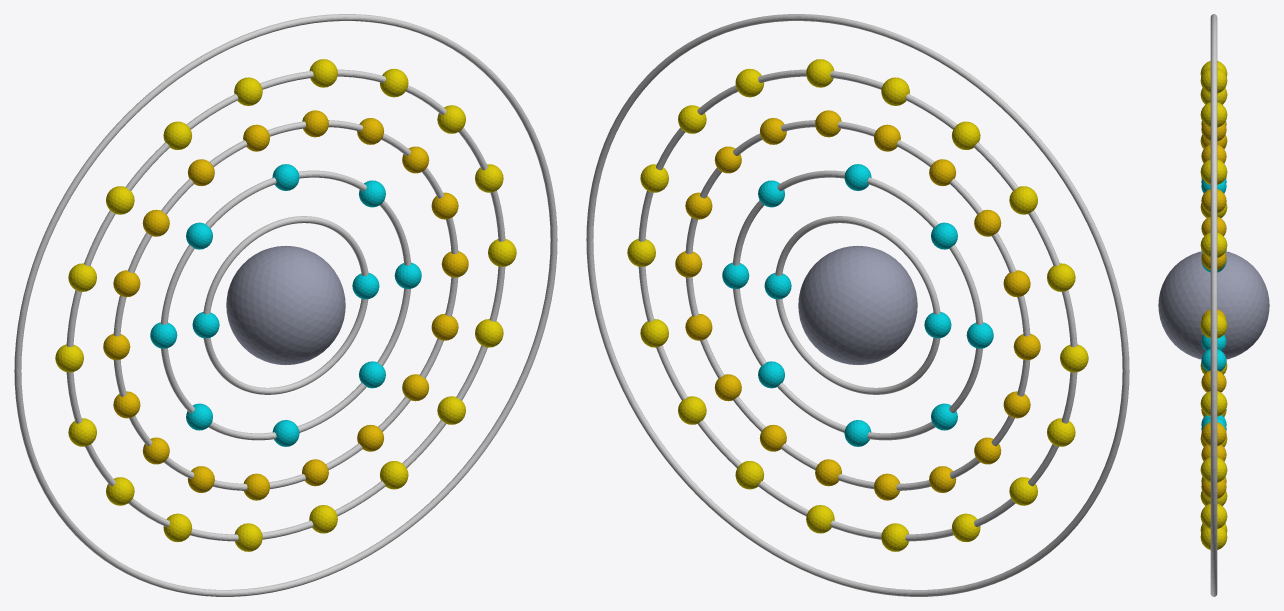
3 views of the same model, side by side, from view 1: azimuth 30°, elevation 25°; view 2: azimuth 150°, elevation 25°; view 3: azimuth 270°, elevation 25° (orthographic). The views are drawn at different scales.
Parts seen in each view (by area): view 1: Camada_5, Nucleo_Pd, Camada_4, Camada_3, Camada_2, Camada_1; view 2: Camada_5, Nucleo_Pd, Camada_4, Camada_3, Camada_2, Camada_1; view 3: Nucleo_Pd, Camada_5, e4_17, e4_3, e4_1, e4_2, e4_6, e4_4, e4_5, e4_18, e4_16, e3_4 (+12 smaller).
Part boxes in pixels (x1,y1,x2,y2): Camada_5: (14,14,557,596); Nucleo_Pd: (226,245,345,365); Camada_4: (66,69,505,541); Camada_3: (113,120,458,490); Camada_2: (160,170,411,440); Camada_1: (203,216,368,394); Camada_5: (586,14,1129,596); Nucleo_Pd: (798,245,917,365); Camada_4: (638,69,1077,541); Camada_3: (685,120,1030,490); Camada_2: (732,170,983,440); Camada_1: (775,216,940,394); Nucleo_Pd: (1158,251,1269,359); Camada_5: (1210,14,1217,596); e4_17: (1200,503,1227,528); e4_3: (1200,232,1227,257); e4_1: (1200,391,1227,416); e4_2: (1200,313,1227,338); e4_6: (1200,68,1227,93); e4_4: (1200,159,1227,184); e4_5: (1200,102,1227,127); e4_18: (1200,457,1227,482); e4_16: (1200,527,1227,549); e3_4: (1201,189,1226,212).
Bounding box in the file's own units: 2.31 × 2.31 × 0.44.
